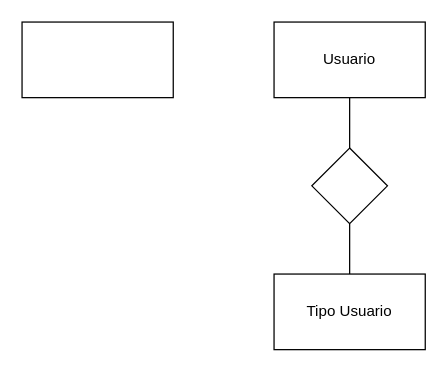
This 447x372 diagram has some shape labels left out. Here are the shapes that lost their labels. From the top down, the box of each, then its label:
(21, 21, 173, 98): Pacotes
(311, 147, 387, 224): possui
